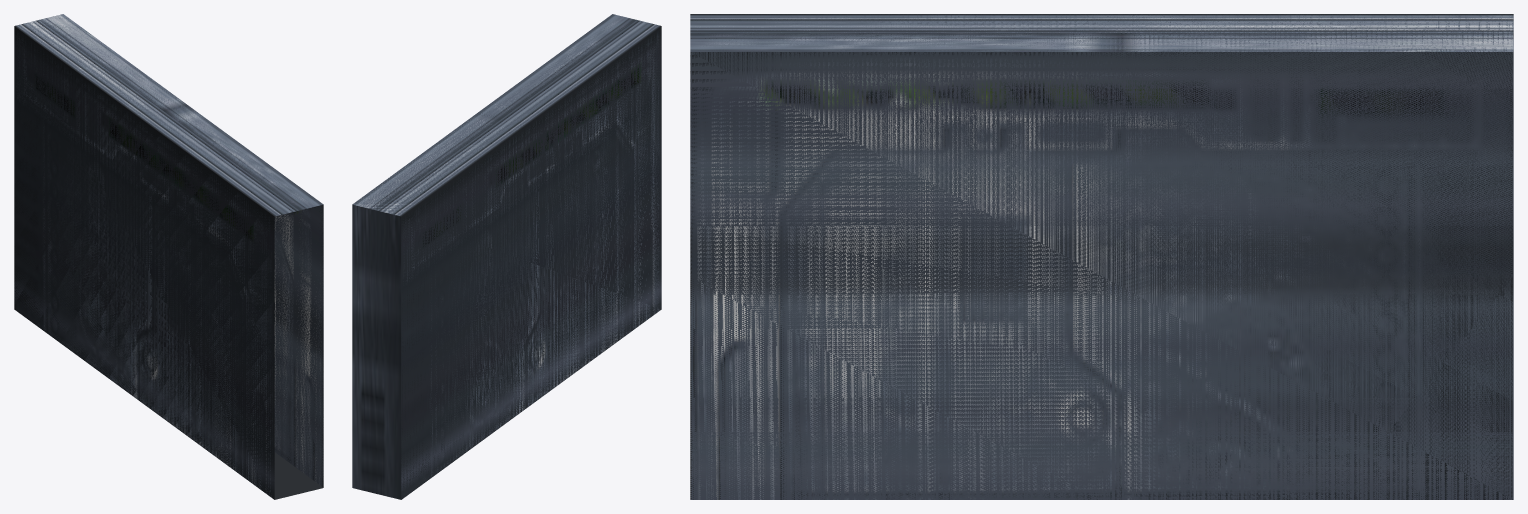
File: stationDoorTop.fbx
The picture shows the model from 3 angles, left to right: view 1: azimuth 30°, elevation 25°; view 2: azimuth 150°, elevation 25°; view 3: azimuth 270°, elevation 25°; orthographic projection. The views are drawn at different scales.
Visible parts, largest first — view 1: Cube.006; view 2: Cube.006; view 3: Cube.006.
Boxes of the visible parts, x1,y1,x2,y2 form: Cube.006: (14,14,323,499); Cube.006: (352,14,661,499); Cube.006: (690,14,1513,499).
Bounding box in the file's own units: 1.73 × 9.54 × 15.88.
